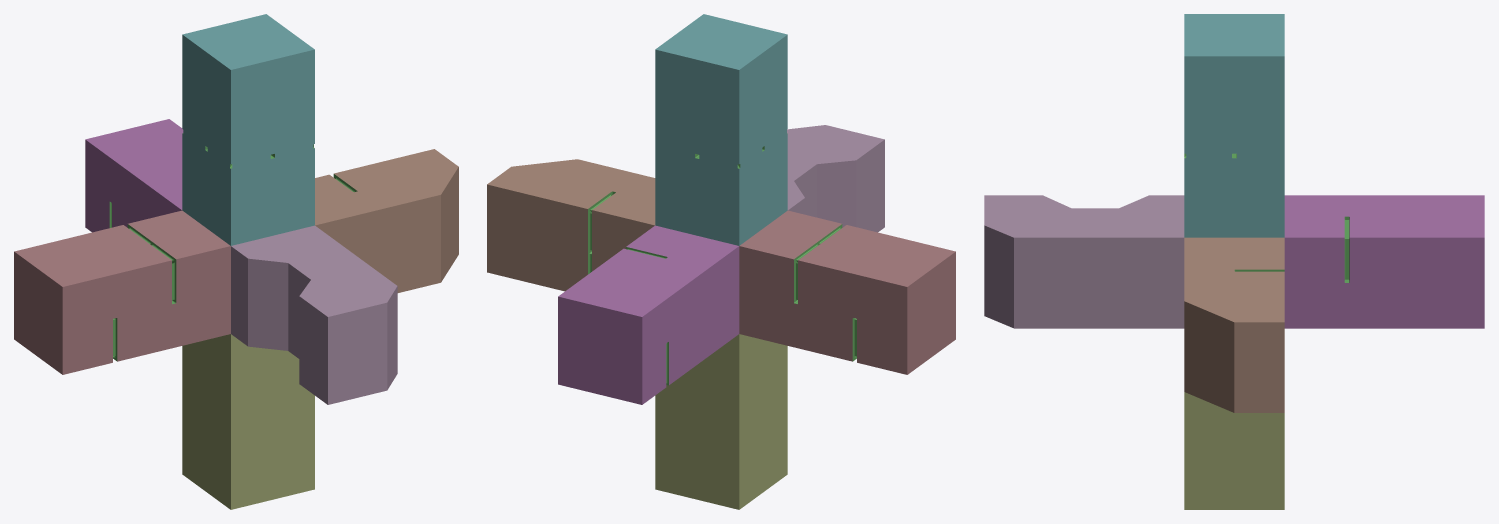
The model's file is newHallway1.fbx.
The picture shows the model from 3 angles, left to right: view 1: azimuth 30°, elevation 25°; view 2: azimuth 150°, elevation 25°; view 3: azimuth 270°, elevation 25°; orthographic projection. The views are drawn at different scales.
Parts seen in each view (by area): view 1: hallway; view 2: hallway; view 3: hallway.
Boxes of the visible parts, <box> form: hallway: <box>14,14,458,509</box>; hallway: <box>487,14,955,509</box>; hallway: <box>984,14,1484,509</box>.
Size of the model in its own units: 5 by 5 by 5.
